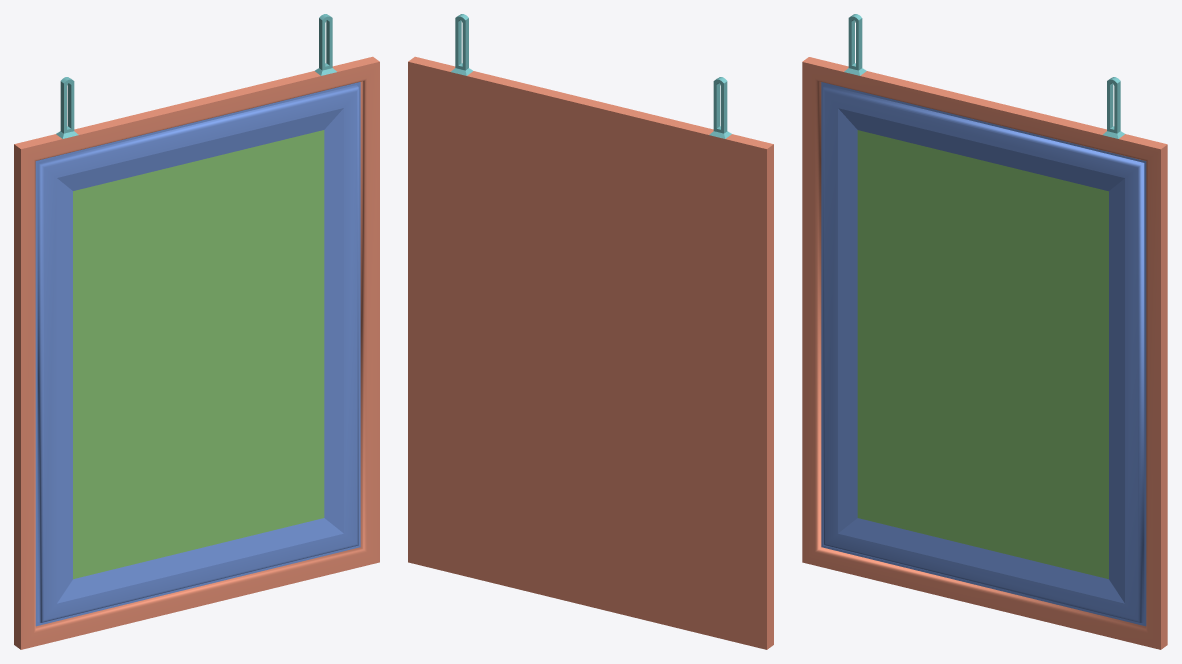
Rendered from Picture1.fbx.
The picture shows the model from 3 angles, left to right: view 1: azimuth 30°, elevation 25°; view 2: azimuth 150°, elevation 25°; view 3: azimuth 330°, elevation 25°; orthographic projection.
Visible parts, largest first — view 1: Picture1; view 2: Picture1; view 3: Picture1.
Boxes of the visible parts, <box> form: Picture1: <box>14,14,379,649</box>; Picture1: <box>408,14,773,649</box>; Picture1: <box>802,14,1167,649</box>.
Bounding box in the file's own units: 60 × 88.99 × 2.
